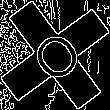O_SE: (23, 22, 87, 88)
